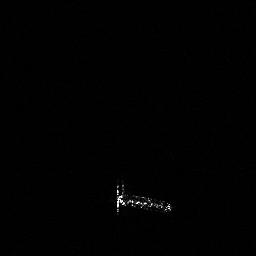ship: (115, 184, 174, 216)
